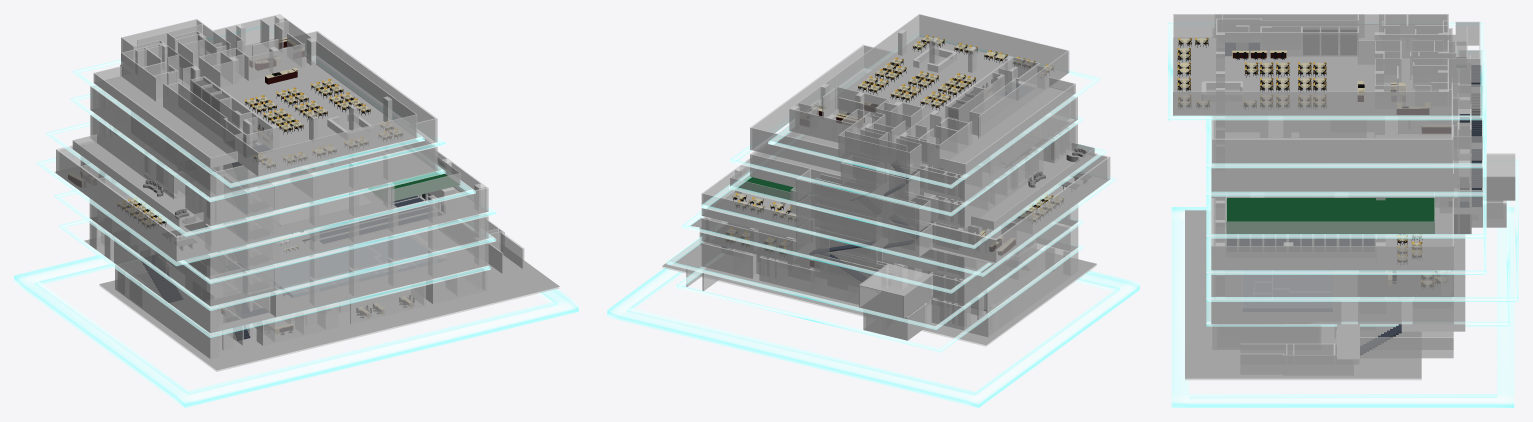
3 views of the same model, side by side, from view 1: azimuth 30°, elevation 25°; view 2: azimuth 150°, elevation 25°; view 3: azimuth 270°, elevation 25° (orthographic). The views are drawn at different scales.
Visible parts, largest first — view 1: piso8, Plane.006, piso2, Plane, Cube.005, piso1, piso5, piso3, piso7, piso6, piso4, Plane.005 (+16 smaller); view 2: piso8, Plane.006, piso7, piso5, Cube.005, piso6, piso3, piso2, piso4, Plane.005, Plane, Cube.025 (+15 smaller); view 3: piso8, Plane.005, Plane.006, Cube.005, Plane, piso2, piso1, Plane.003, piso7, Cube.025, piso6.1, piso4 (+19 smaller).
Boxes of the visible parts, left/top/right/bottom form: piso8: left=93, top=14, right=417, bottom=176; Plane.006: left=94, top=39, right=416, bottom=176; piso2: left=89, top=219, right=488, bottom=333; Plane: left=99, top=247, right=559, bottom=370; Cube.005: left=14, top=254, right=578, bottom=407; piso1: left=115, top=219, right=524, bottom=359; piso5: left=56, top=141, right=460, bottom=261; piso3: left=89, top=199, right=488, bottom=306; piso7: left=90, top=30, right=437, bottom=197; piso6: left=72, top=114, right=391, bottom=226; piso4: left=184, top=150, right=488, bottom=279; Plane.005: left=73, top=134, right=437, bottom=226; piso8: left=789, top=14, right=1075, bottom=174; Plane.006: left=790, top=36, right=1074, bottom=173; piso7: left=750, top=44, right=1077, bottom=202; piso5: left=730, top=132, right=1110, bottom=262; Cube.005: left=607, top=268, right=1139, bottom=407; piso6: left=796, top=121, right=1094, bottom=231; piso3: left=701, top=203, right=1078, bottom=318; piso2: left=701, top=224, right=1078, bottom=340; piso4: left=701, top=132, right=987, bottom=279; Plane.005: left=751, top=135, right=1093, bottom=229; Plane: left=662, top=239, right=1096, bottom=345; Cube.025: left=682, top=218, right=1077, bottom=340; piso8: left=1173, top=14, right=1480, bottom=115; Plane.005: left=1211, top=115, right=1471, bottom=191; Plane.006: left=1173, top=24, right=1467, bottom=115; Cube.005: left=1171, top=207, right=1514, bottom=407; Plane: left=1185, top=210, right=1421, bottom=378; piso2: left=1211, top=200, right=1506, bottom=324; piso1: left=1212, top=324, right=1453, bottom=375; Plane.003: left=1211, top=93, right=1481, bottom=233; piso7: left=1212, top=28, right=1482, bottom=163; Cube.025: left=1211, top=204, right=1506, bottom=359; piso6.1: left=1212, top=114, right=1452, bottom=191; piso4: left=1211, top=152, right=1482, bottom=270.
Bounding box in the file's own units: 68.8 × 39.43 × 52.87.
